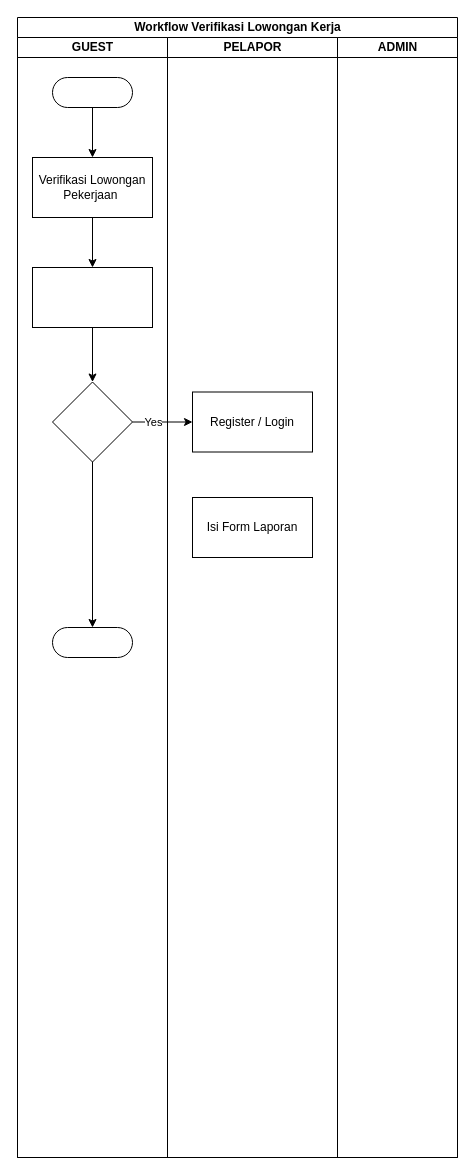
The diagram is 475 pixels wide and 1175 high, and some of its shapes have lost their labels. Each missing label, with the centre of its shape:
END: (92,642)
Hasil Verifikasi Lowongan Pekerjaan: (92,297)
Laporkan Loker?: (92,421)
START: (92,92)
